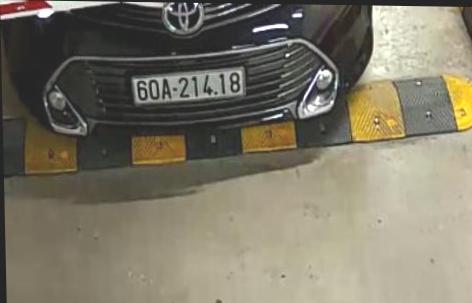License_Plate: (132, 70, 247, 105)
